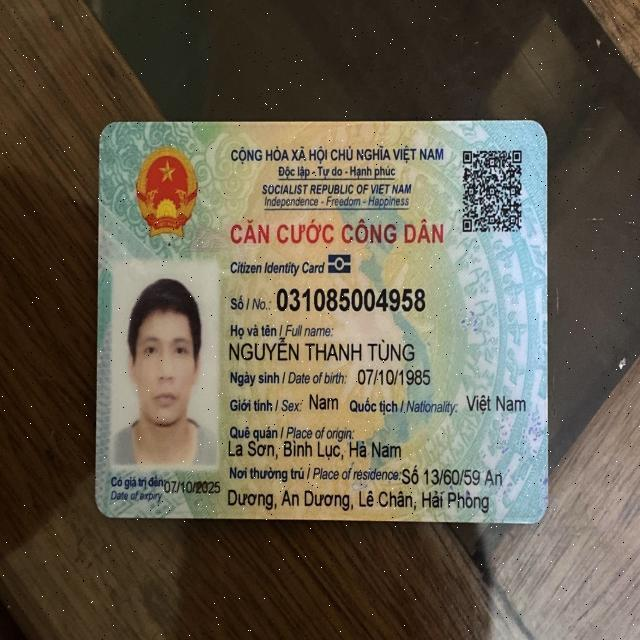current_place: (225, 486, 490, 516), (227, 437, 403, 463), (399, 463, 505, 486)
dob: (350, 363, 432, 386)
expire_date: (161, 476, 220, 498)
gender: (307, 393, 340, 412)
id: (276, 279, 427, 317)
name: (230, 333, 417, 366)
nationality: (466, 392, 528, 419)
